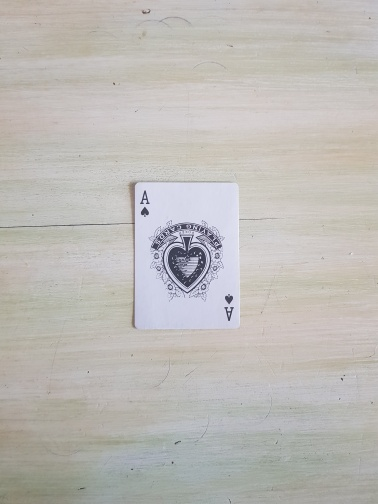ace: (133, 181, 241, 330)
